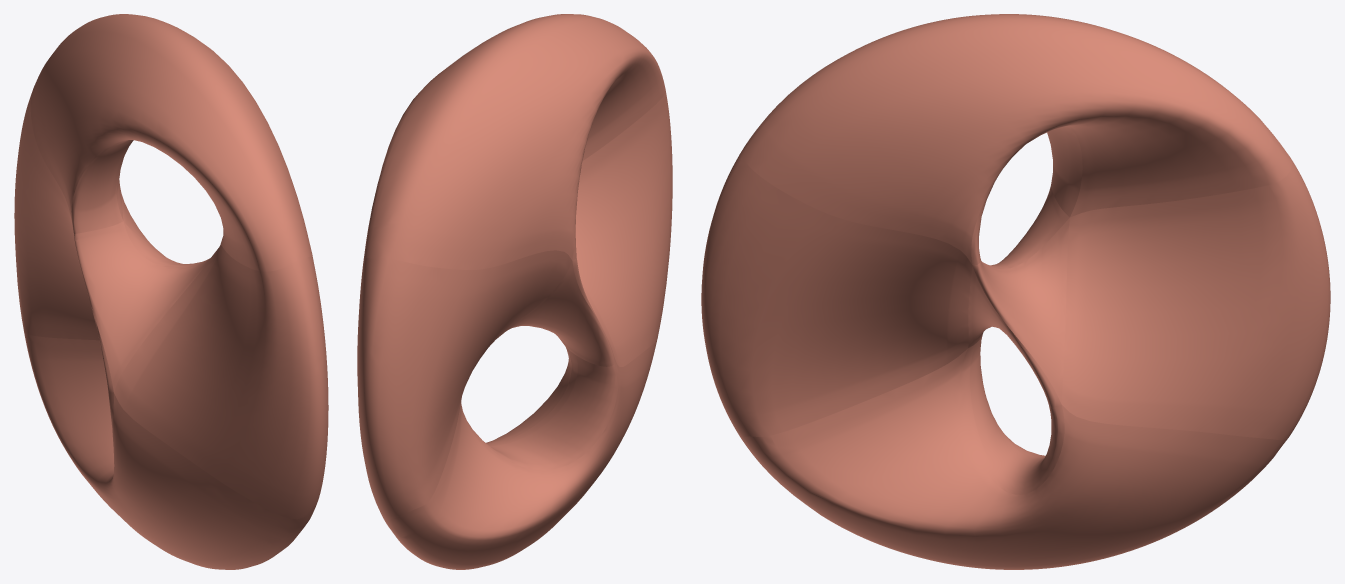
The picture shows the model from 3 angles, left to right: view 1: azimuth 30°, elevation 25°; view 2: azimuth 150°, elevation 25°; view 3: azimuth 270°, elevation 25°; orthographic projection. The views are drawn at different scales.
Parts seen in each view (by area): view 1: 雕塑11; view 2: 雕塑11; view 3: 雕塑11.
Part boxes in pixels (x1,y1,x2,y2): 雕塑11: [14, 14, 328, 569]; 雕塑11: [357, 14, 672, 569]; 雕塑11: [701, 14, 1330, 569].
Bounding box in the file's own units: 0.123 × 0.3693 × 0.3832.
